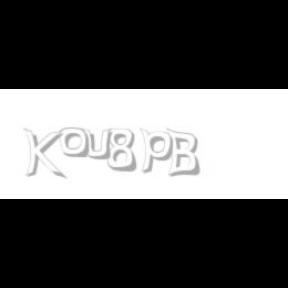8: (108, 128, 136, 172)
B: (166, 128, 200, 178)
K: (23, 128, 63, 180)
o: (60, 128, 88, 158)
p: (140, 128, 177, 174)
u: (82, 128, 116, 160)
